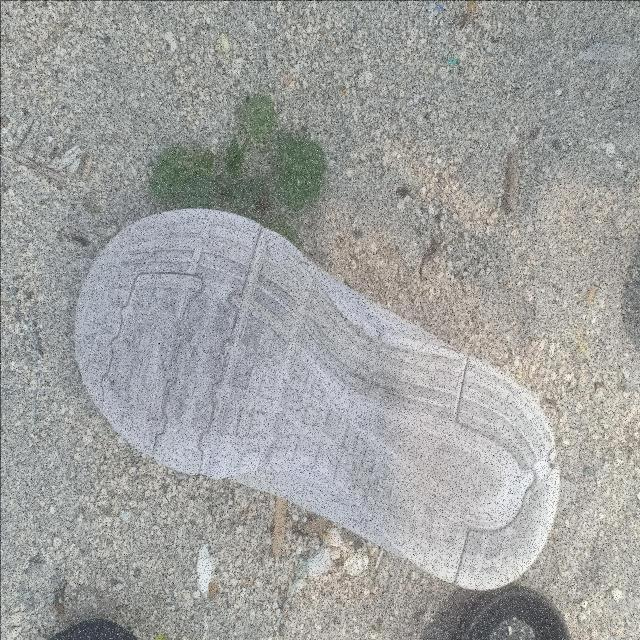rubber_waste: (73, 207, 563, 594)
